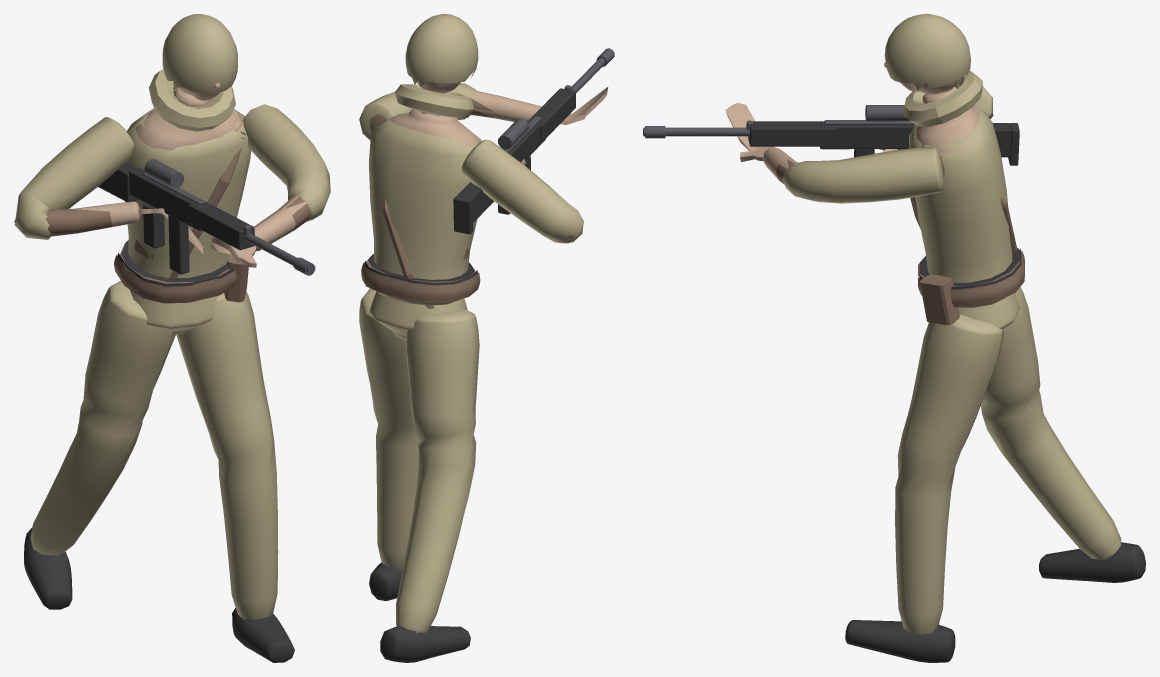
File: tactical-shooter-hill-town-desert-scout-standing-aim-982a7039__27579.glb
3 views of the same model, side by side, from view 1: azimuth 30°, elevation 25°; view 2: azimuth 150°, elevation 25°; view 3: azimuth 270°, elevation 25° (orthographic). The views are drawn at different scales.
Parts seen in each view (by area): view 1: desert-scout-standing-aim; view 2: desert-scout-standing-aim; view 3: desert-scout-standing-aim.
Part boxes in pixels (box(x1,y1,x2,y2)): desert-scout-standing-aim: box(14, 14, 330, 662); desert-scout-standing-aim: box(359, 14, 614, 662); desert-scout-standing-aim: box(643, 14, 1145, 662).
Bounding box in the file's own units: 0.7191 × 1.73 × 1.27.
